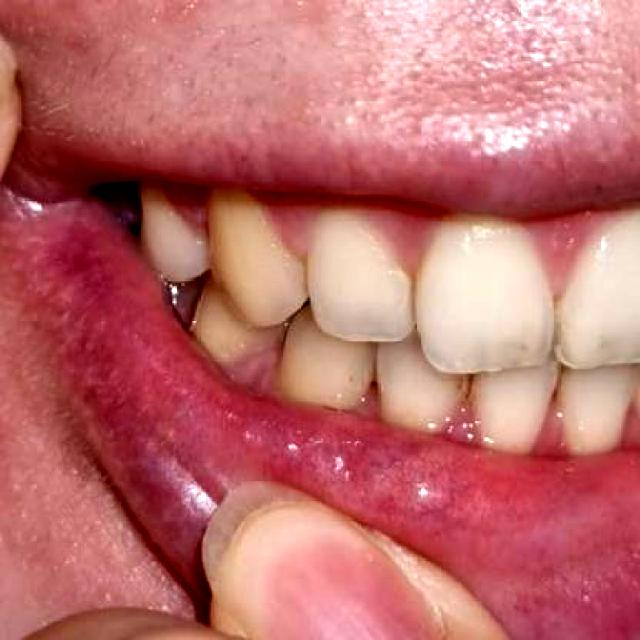Plaque: (529, 218, 607, 296), (367, 210, 440, 281), (260, 195, 317, 268), (161, 182, 212, 240), (224, 346, 282, 393), (529, 400, 568, 458), (438, 397, 485, 445), (348, 380, 385, 419), (618, 400, 639, 446)
